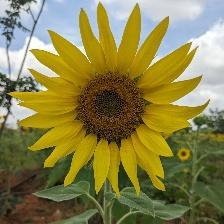sunflower: (8, 2, 212, 199), (177, 148, 192, 164)
